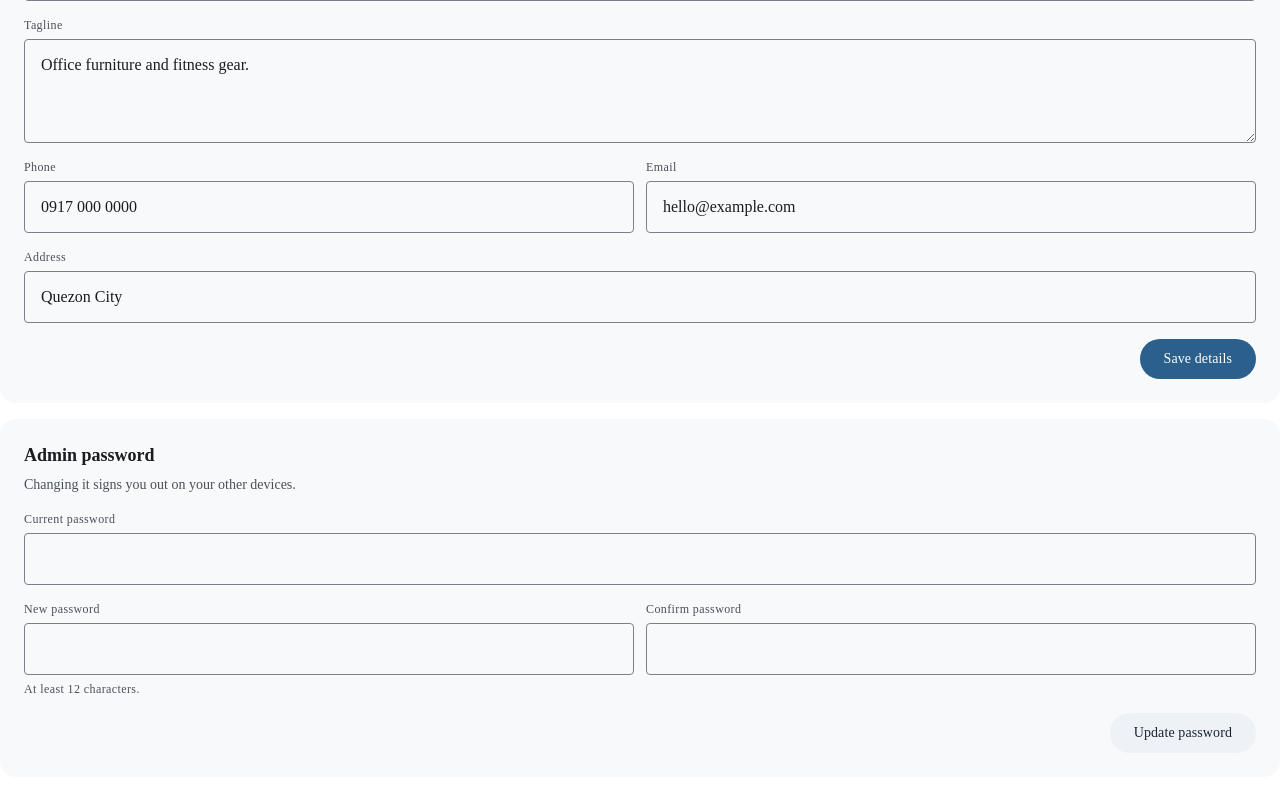
Admin password › changes the password, clears the fields and shows the snackbar
(page scrolled)
Type "admin" into the password field labelled "Current password". click: [640, 559]
box: [24, 533, 1256, 585]
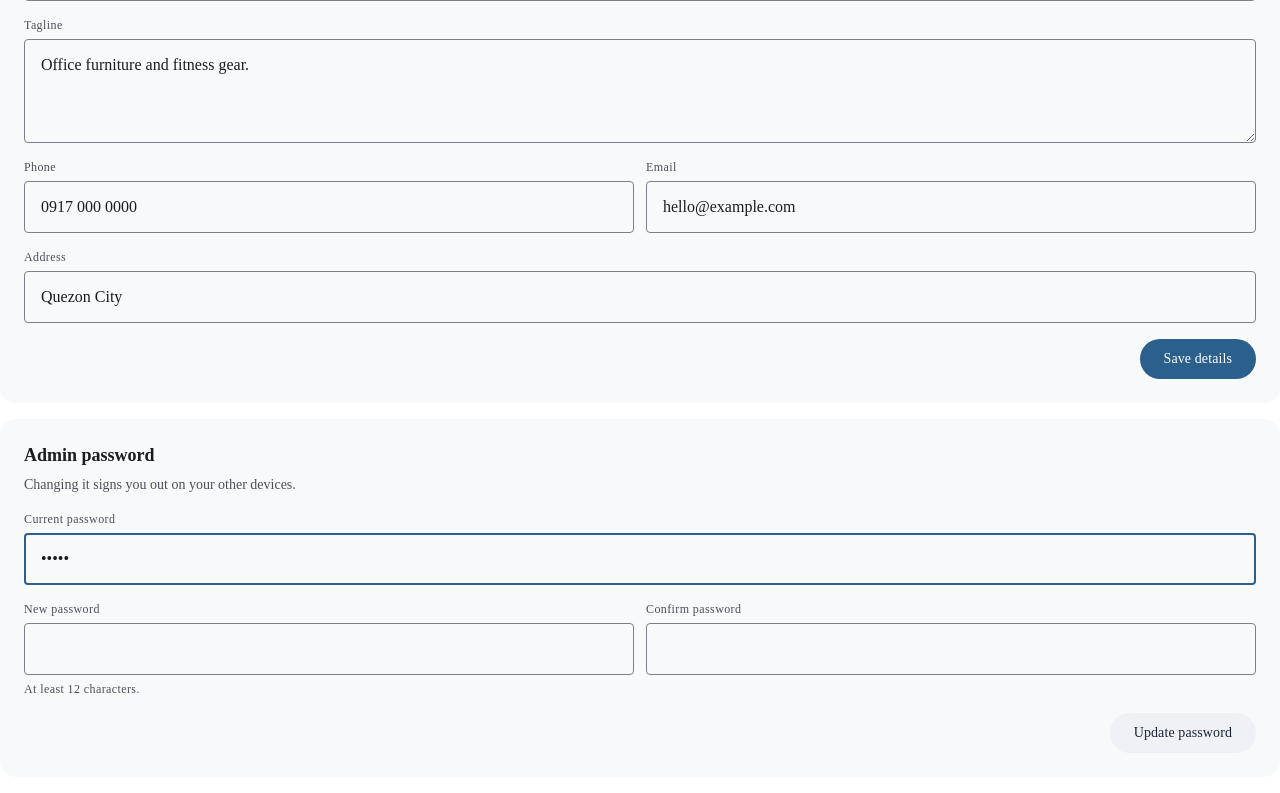
Type "a much longer password" into the password field labelled "New password". click: [329, 649]
box: [24, 623, 634, 675]
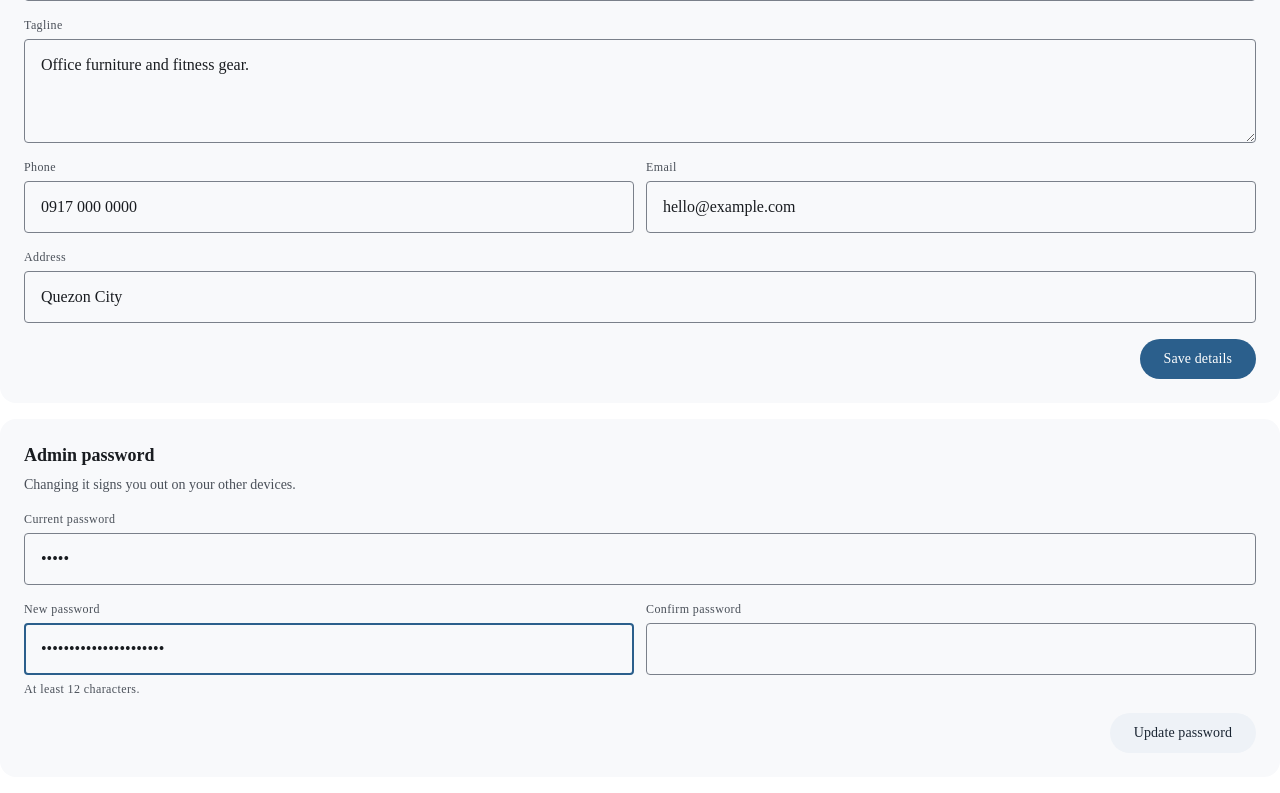
Type "a much longer password" into the password field labelled "Confirm password". click: [951, 649]
box: [646, 623, 1256, 675]
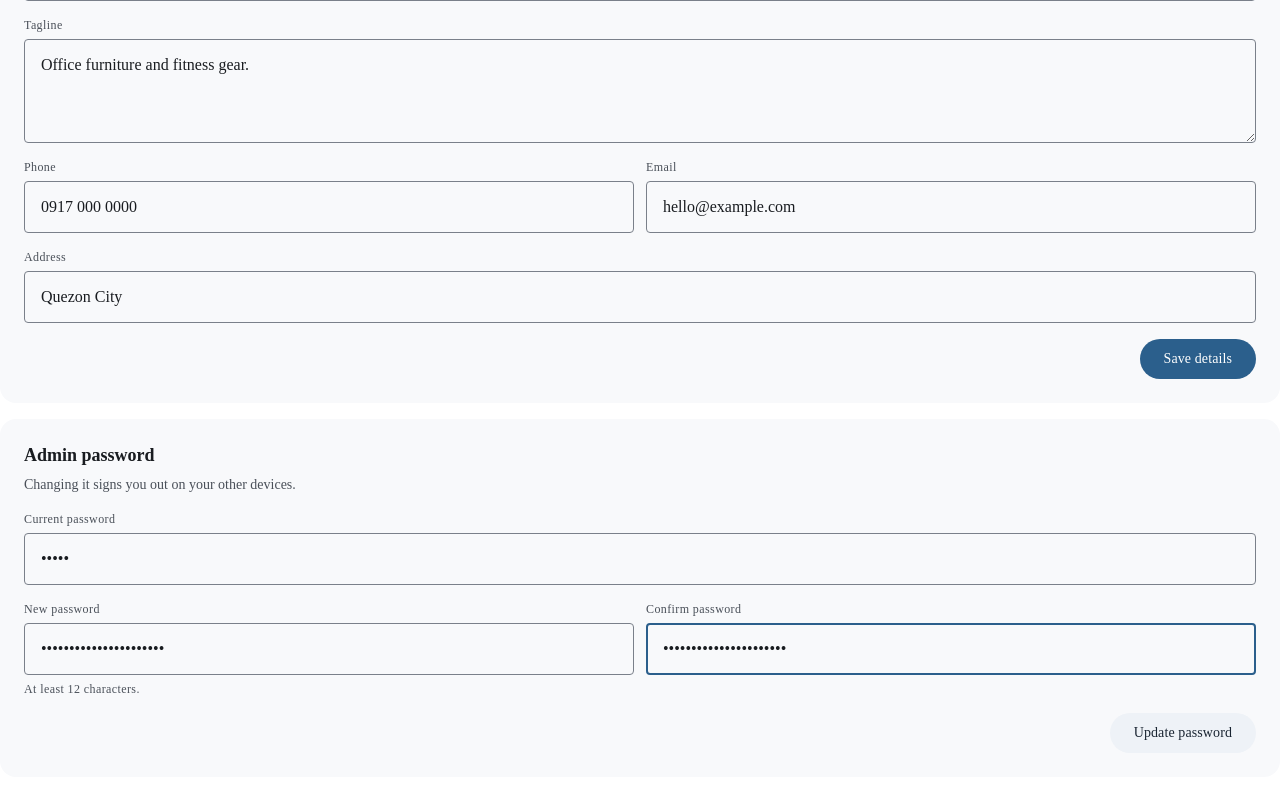
Click the button "Update password". click: [1183, 733]
box: [1110, 713, 1256, 753]
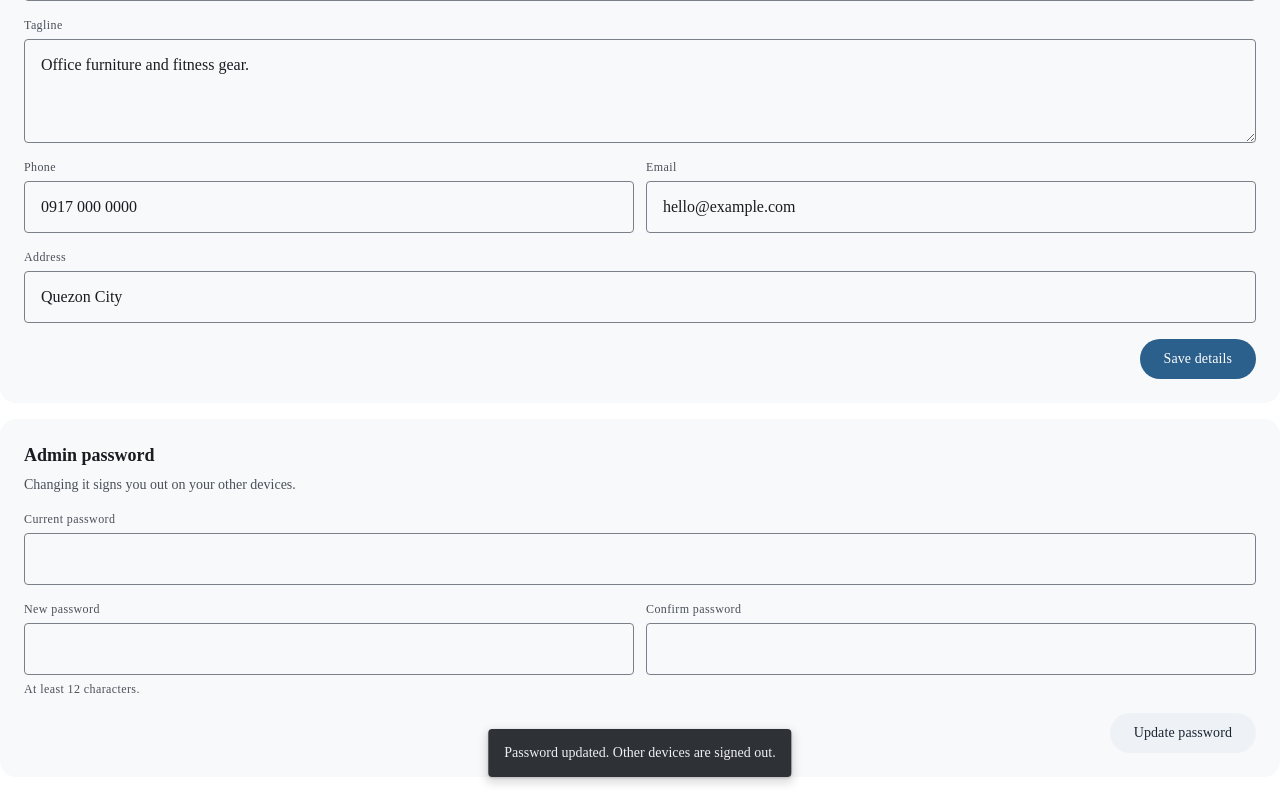
Check: the message reads "Password updated. Other devices are signed out.", box [504, 745, 776, 760]
Check: the password field labelled "Current password" is empty, box [24, 533, 1256, 585]
Check: the password field labelled "New password" is empty, box [24, 623, 634, 675]
